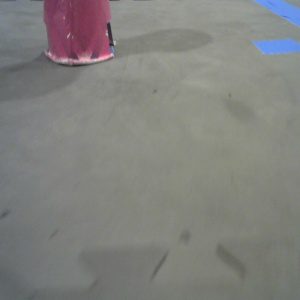middle: (43, 1, 116, 65)
